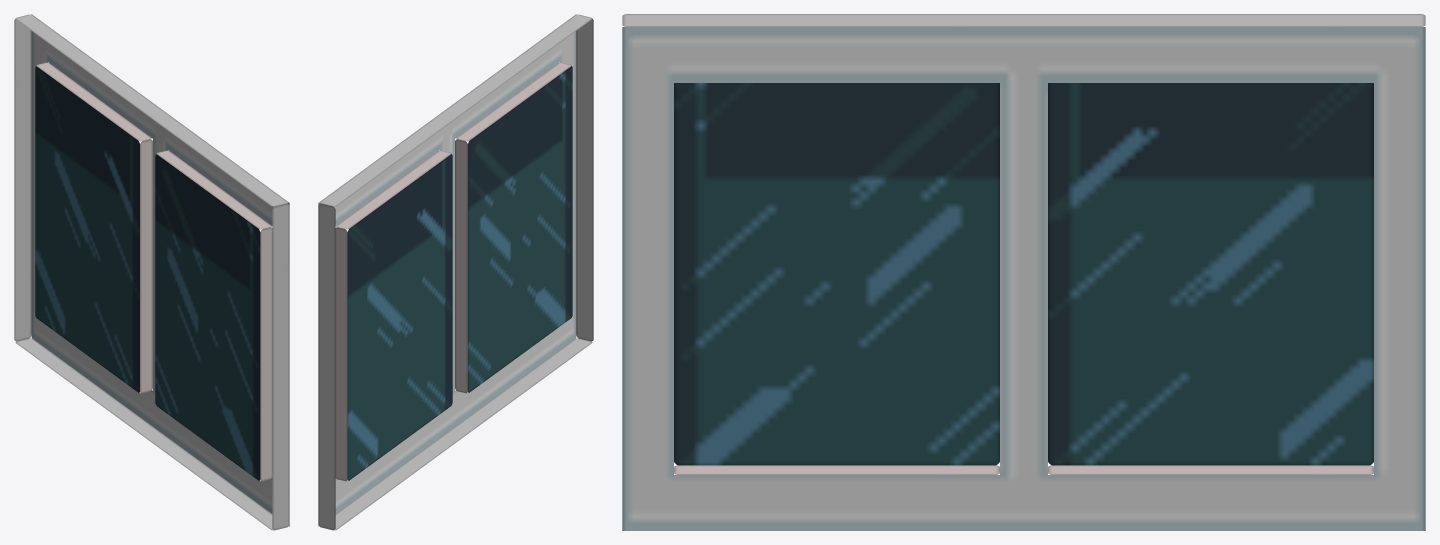
Rendered from WindowWhite2Big.fbx.
The picture shows the model from 3 angles, left to right: view 1: azimuth 30°, elevation 25°; view 2: azimuth 150°, elevation 25°; view 3: azimuth 270°, elevation 25°; orthographic projection. The views are drawn at different scales.
Visible parts, largest first — view 1: plane; view 2: plane; view 3: plane.
Boxes of the visible parts, x1,y1,x2,y2 form: plane: (14,14,289,530); plane: (318,14,593,530); plane: (622,14,1425,530).
Bounding box in the file's own units: 6.25 × 112 × 162.
Materials: 1 (1 with a texture image).
